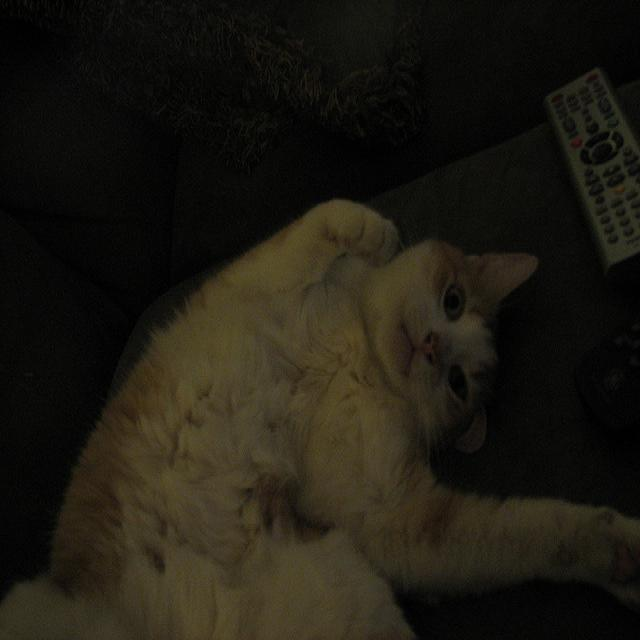Cat: (0, 216, 592, 640)
